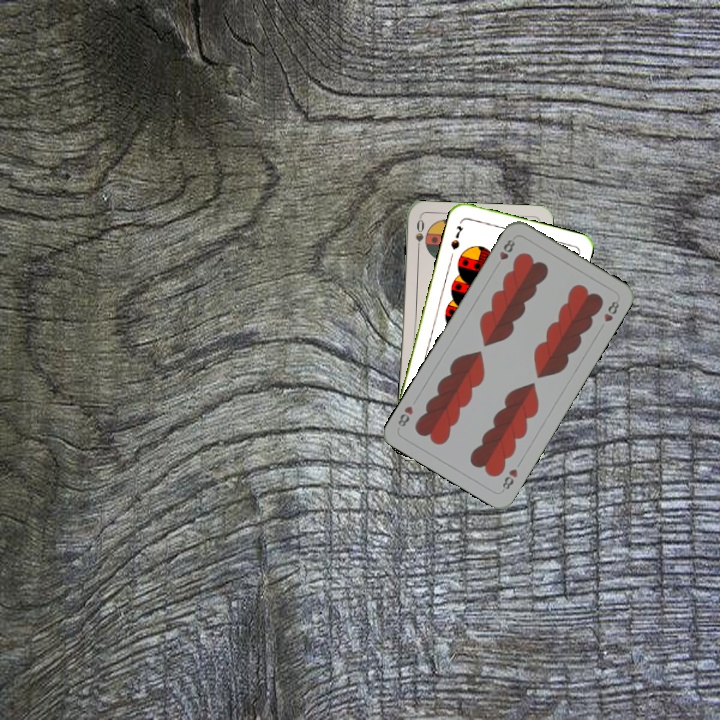H8: (492, 235, 518, 270), (498, 465, 520, 494)
S7: (447, 221, 466, 252)
SO: (411, 215, 427, 256)
